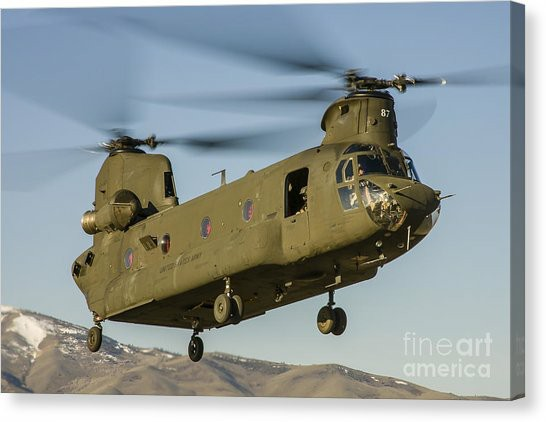chinook: (48, 60, 446, 359)
